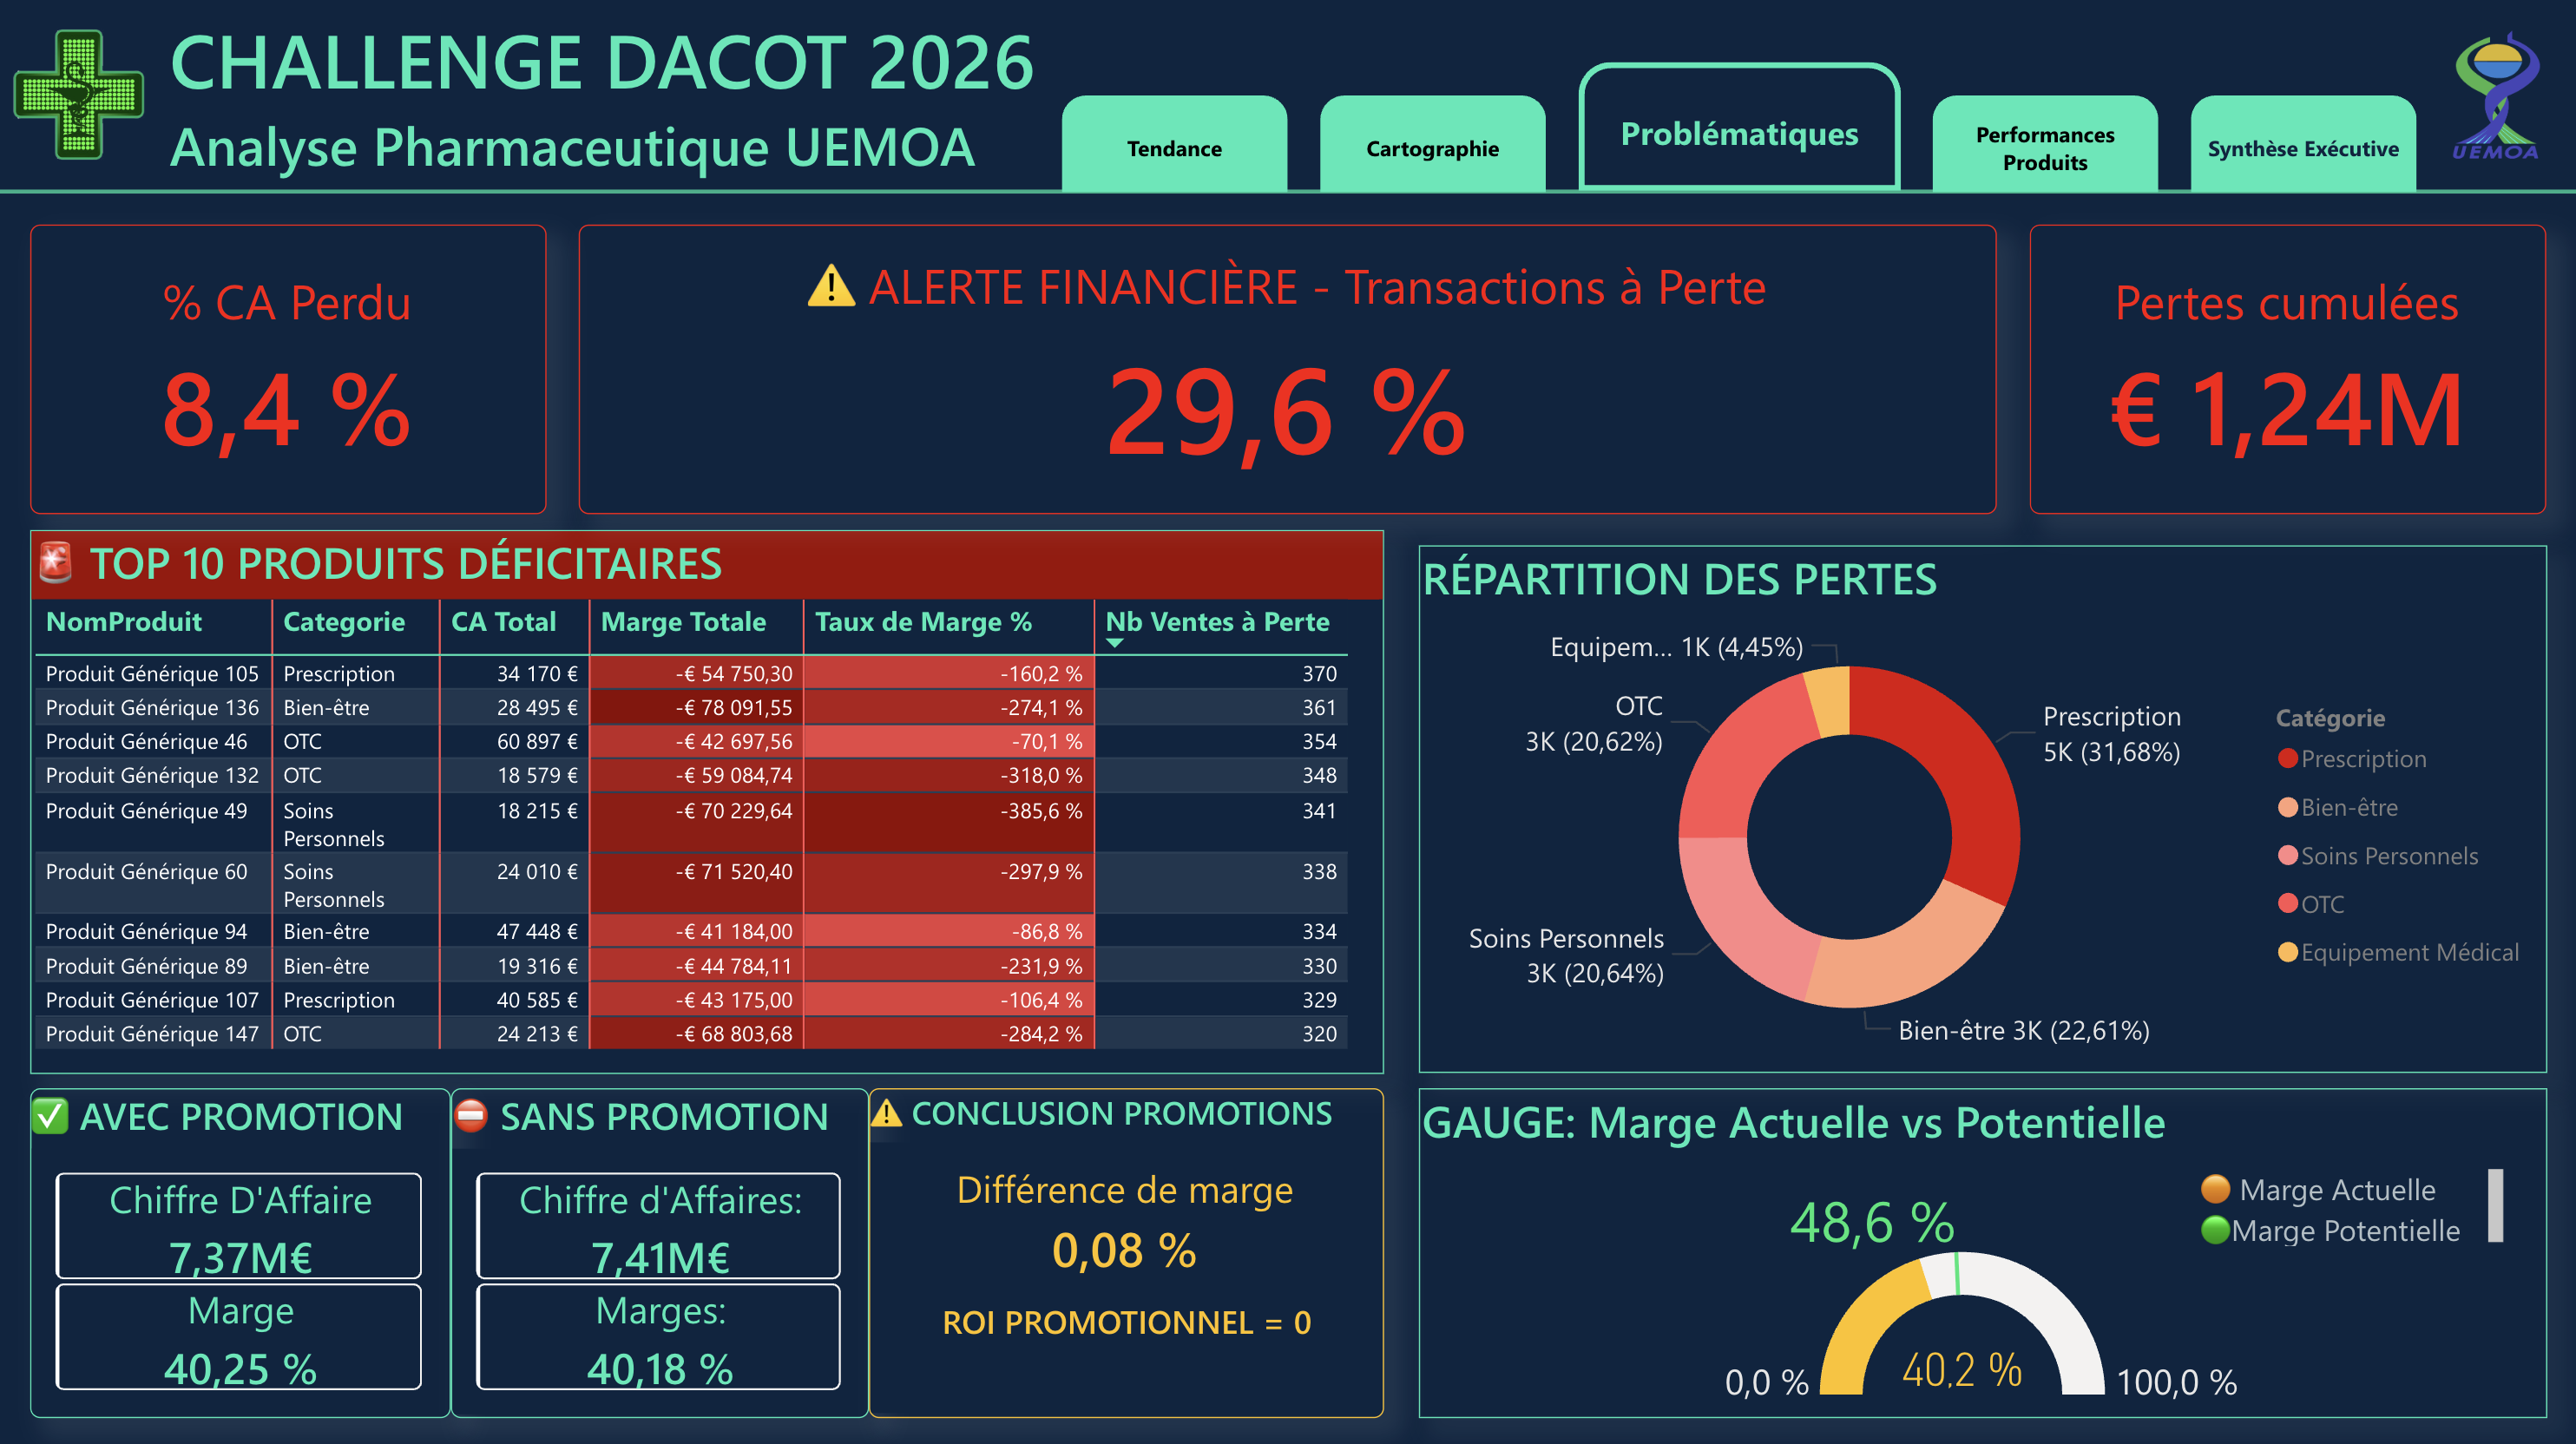

What the dashboard file says about the page in this screenshot:
{"tool":"powerbi","page":{"name":"Problématiques","canvas":[1280,720],"ordinal":2},"visuals":[{"type":"textbox","box":[1088,576,160,48],"z":0},{"type":"textbox","box":[80,0,448,96],"z":1000},{"type":"shape","box":[0,80,1280,32],"z":2000},{"type":"image","box":[0,0,80,96],"z":3000},{"type":"image","box":[1200,16,80,64],"z":4000},{"type":"actionButton","box":[1088,48,112,48],"z":5000},{"type":"actionButton","box":[528,48,112,48],"z":6000},{"type":"actionButton","box":[656,48,112,48],"z":7000},{"type":"tableEx","title":"🚨 TOP 10 PRODUITS DÉFICITAIRES","fields":{"Values":["DimProduit.NomProduit","DimProduit.Categorie","⚡ Mesures.CA Total","⚡ Mesures.Marge Totale","⚡ Mesures.Taux de Marge %","⚡ Mesures.Nb Ventes à Perte"]},"box":[15.6,264,672,269.7],"z":8000},{"type":"cardVisual","fields":{"Data":["⚡ Mesures.% Ventes à Perte"]},"box":[288,112,704,144],"z":9000},{"type":"actionButton","box":[960,48,112,48],"z":10000},{"type":"actionButton","box":[784,32,160,64],"z":11000},{"type":"cardVisual","fields":{"Data":["⚡ Mesures.% CA Perdu"]},"box":[16,112,256,144],"z":12000},{"type":"cardVisual","fields":{"Data":["⚡ Mesures.Montant Pertes"]},"box":[1008,112,256,144],"z":13000},{"type":"gauge","title":"  GAUGE: Marge Actuelle vs Potentielle","fields":{"Y":["⚡ Mesures.Taux de Marge %"],"TargetValue":["⚡ Mesures.% Marge Potentielle"]},"box":[704.7,541,559.7,163.7],"z":14000},{"type":"cardVisual","title":"✅ AVEC PROMOTION","fields":{"Data":["⚡ Mesures.CA Promo","⚡ Mesures.Marge % Promo"]},"box":[15.6,541,208.9,163.7],"z":15000},{"type":"cardVisual","title":"⛔ SANS PROMOTION","fields":{"Data":["⚡ Mesures.CA Non Promo","⚡ Mesures.Marge % Non Promo"]},"box":[224.5,541,207.4,163.7],"z":16000},{"type":"cardVisual","title":"⚠️ CONCLUSION PROMOTIONS","fields":{"Data":["⚡ Mesures.Différence de marge"]},"box":[431.9,541,255.7,163.7],"z":17000},{"type":"textbox","box":[432,640,256,64],"z":18000},{"type":"donutChart","title":"  RÉPARTITION DES PERTES","fields":{"Category":["DimProduit.Categorie"],"Y":["⚡ Mesures.Nb Ventes à Perte"]},"box":[704.7,271.3,559.7,261.9],"z":19000}]}

Visuals, with their boxes in screenshot pixels (x1, y1, x2, y2), scaled from the page's 1280x720 canvas onto the 2576x1444 screenshot:
textbox: detection(2190, 1155, 2512, 1251)
textbox: detection(161, 0, 1062, 193)
shape: detection(0, 161, 2575, 225)
image: detection(0, 0, 161, 193)
image: detection(2415, 32, 2575, 161)
actionButton: detection(2190, 96, 2415, 193)
actionButton: detection(1062, 96, 1288, 193)
actionButton: detection(1320, 96, 1546, 193)
"🚨 TOP 10 PRODUITS DÉFICITAIRES" tableEx: detection(31, 529, 1383, 1070)
cardVisual - ⚡ Mesures.% Ventes à Perte: detection(580, 225, 1996, 514)
actionButton: detection(1932, 96, 2158, 193)
actionButton: detection(1578, 64, 1900, 193)
cardVisual - ⚡ Mesures.% CA Perdu: detection(32, 225, 548, 514)
cardVisual - ⚡ Mesures.Montant Pertes: detection(2028, 225, 2544, 514)
"  GAUGE: Marge Actuelle vs Potentielle" gauge: detection(1418, 1085, 2545, 1414)
"✅ AVEC PROMOTION" cardVisual: detection(31, 1085, 452, 1414)
"⛔ SANS PROMOTION" cardVisual: detection(452, 1085, 869, 1414)
"⚠️ CONCLUSION PROMOTIONS" cardVisual: detection(869, 1085, 1383, 1414)
textbox: detection(870, 1283, 1384, 1412)
"  RÉPARTITION DES PERTES" donutChart: detection(1418, 544, 2545, 1069)
